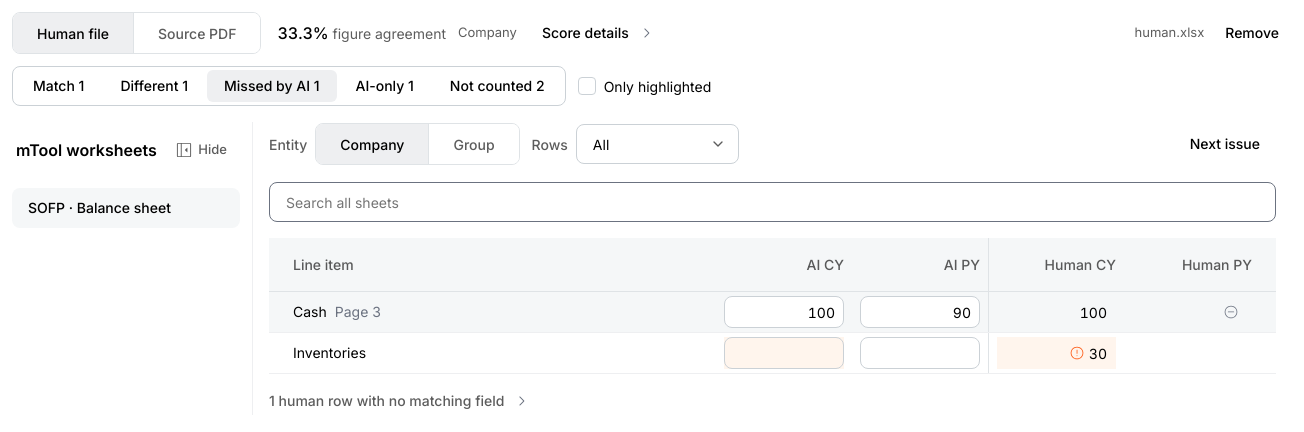
Test: figures view with a human file › highlights and scores follow the selected entity without leaking the other entity's periods
Expected: the element with test id "human-value-cash-CY" is shown, [1080,304,1107,320]
Click the tab with test id "scope-btn-Group": (474, 144) [429,124,519,164]
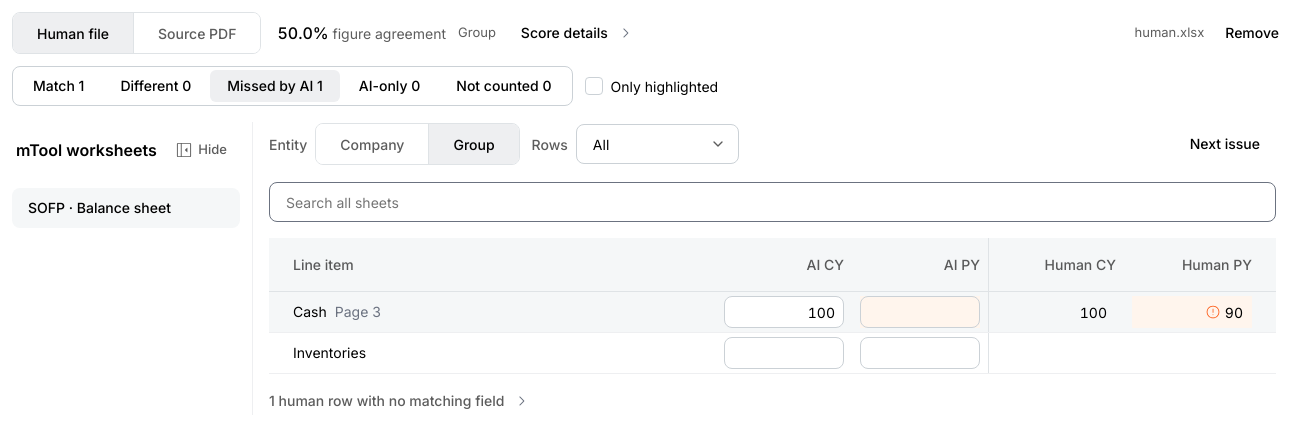
Result: the element with test id "human-value-cash-PY" has attribute data-comparison-highlight="true" at [1132,296,1252,328]
Click the checkbox labelled "Only highlighted": (594, 86) [584,77,602,95]
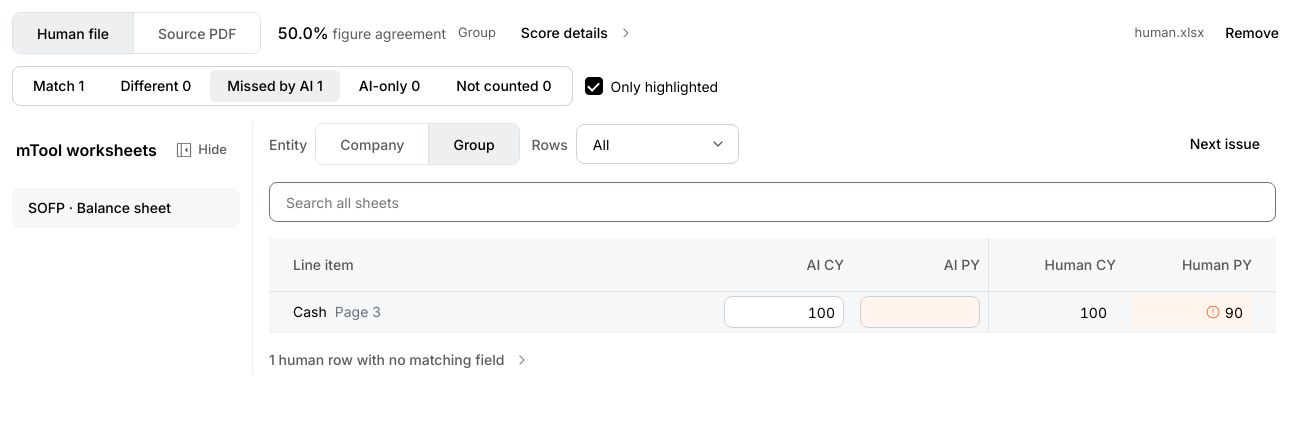
Expected: the list item with test id "concept-row-cash" is shown, [269,292,1276,333]
Click the tab with test id "scope-btn-Company": (373, 144) [316,124,430,164]
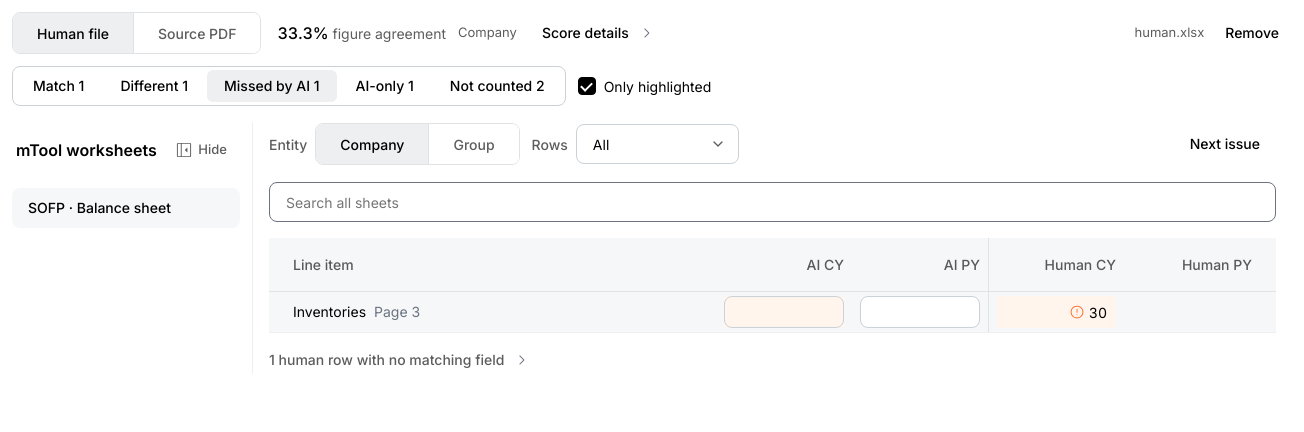
Result: the list item with test id "concept-row-cash" is gone
Result: the list item with test id "concept-row-inv" is shown at [269,292,1276,333]
